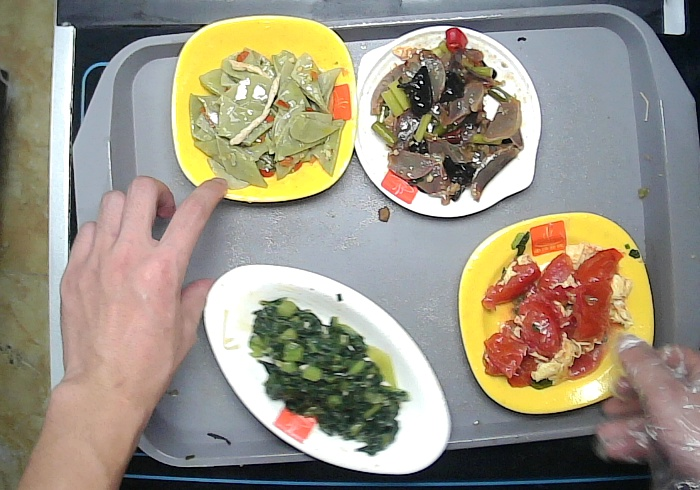SHKJ-Bao_Yu_Pan: (352, 24, 543, 220)
SHKJ-Huang_Se_Cai_Die: (168, 12, 360, 204)
SHKJ-Huang_Se_Si_Fang_Cai_Die: (455, 209, 657, 416)
SHKJ-Yu_Pan: (200, 262, 455, 475)
